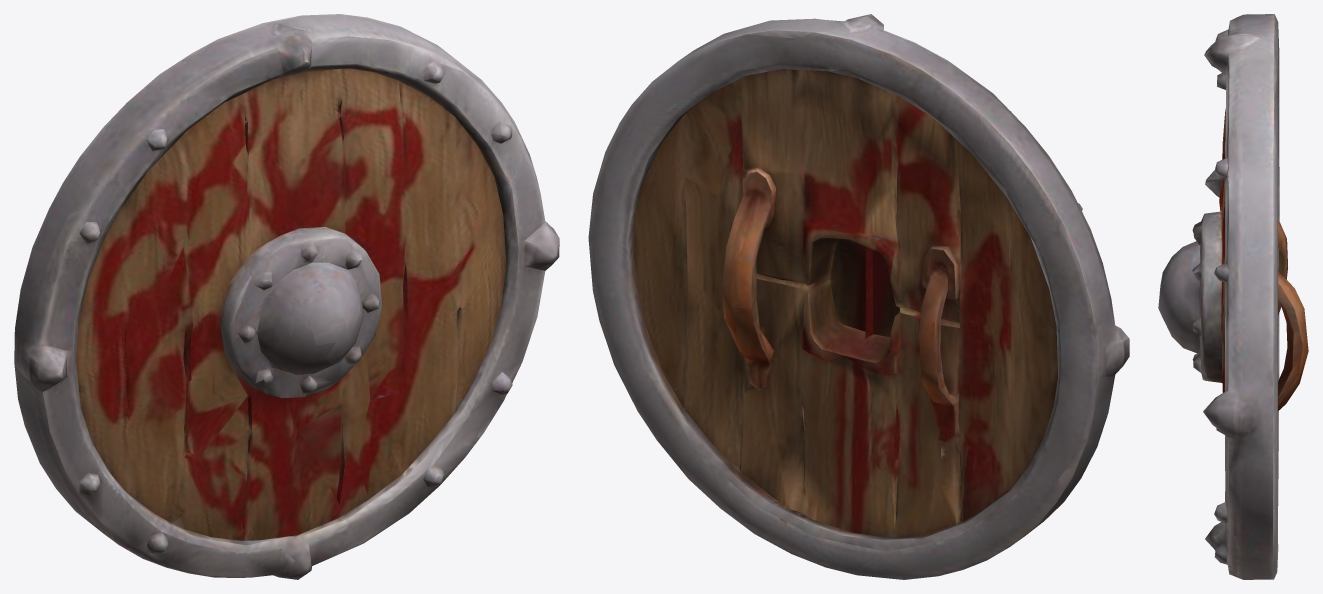
The model's file is shield_orc.glb.
The picture shows the model from 3 angles, left to right: view 1: azimuth 30°, elevation 25°; view 2: azimuth 150°, elevation 25°; view 3: azimuth 270°, elevation 25°; orthographic projection. The views are drawn at different scales.
Parts seen in each view (by area): view 1: shield_orc; view 2: shield_orc; view 3: shield_orc.
Part boxes in pixels (x1=…): shield_orc: x1=14, y1=14, x2=559, y2=579; shield_orc: x1=588, y1=14, x2=1129, y2=579; shield_orc: x1=1158, y1=14, x2=1308, y2=579.
Bounding box in the file's own units: 0.4037 × 0.4001 × 0.1047.
1 material, 1 textured.
